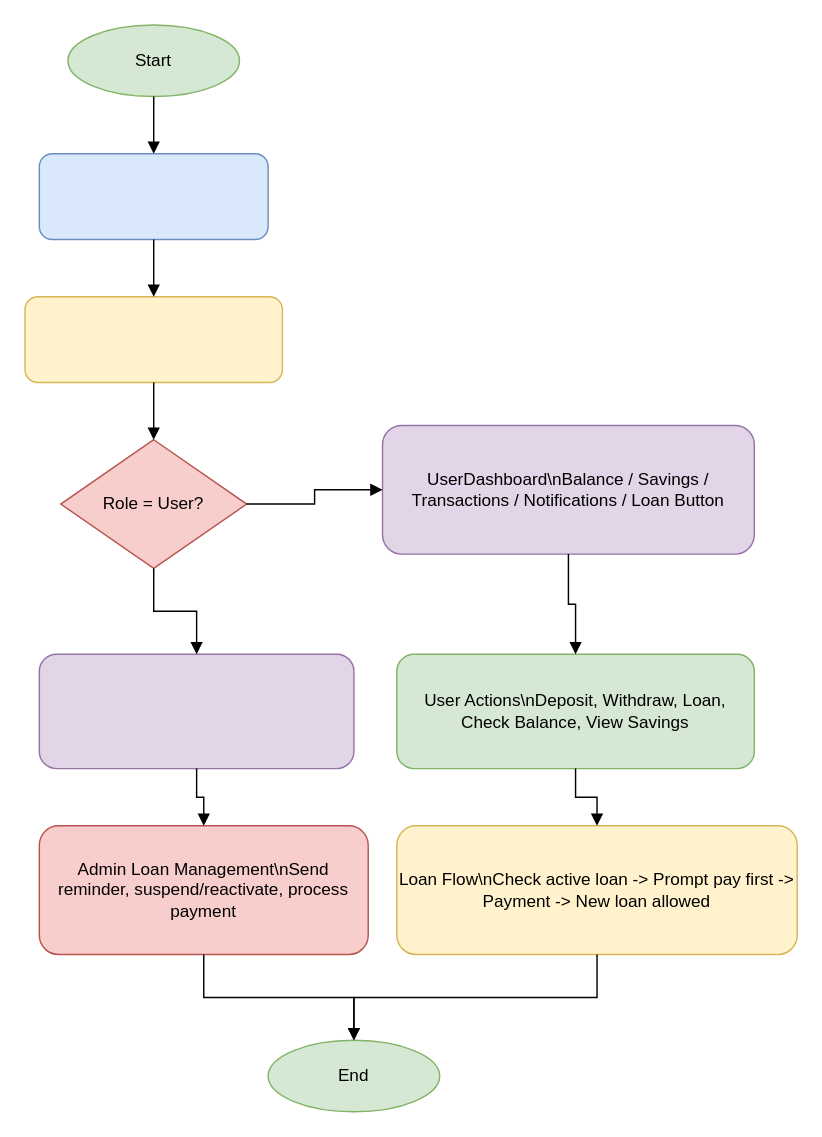
The diagram is 822 pixels wide and 1137 high, and some of its shapes have lost their labels. The shapes that lost their labels are listed below. From the top down, each one's centre as x and y in pixels, then its label:
At point 153,196: "User Login / Admin Login".
At point 153,339: "Authenticate Credentials".
At point 196,711: "AdminDashboard\nSystem Overview / Loan Management / Init DB".
